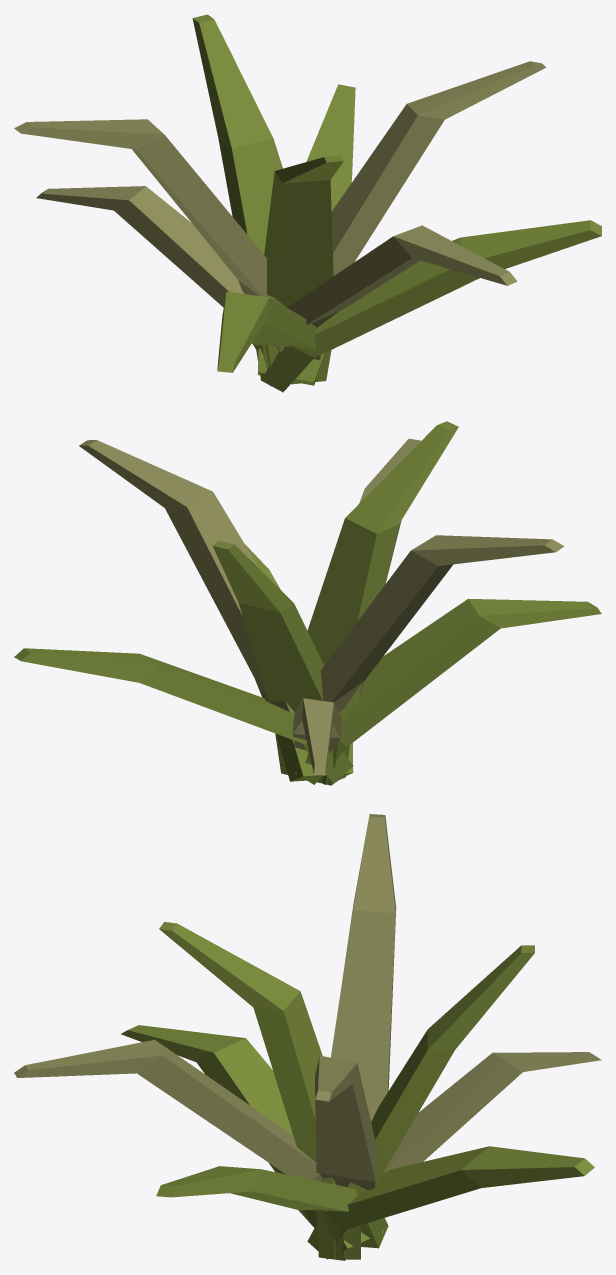
The model's file is herbe_haute.fbx.
3 views of the same model, one above another, from view 1: azimuth 30°, elevation 25°; view 2: azimuth 150°, elevation 25°; view 3: azimuth 270°, elevation 25° (orthographic). The views are drawn at different scales.
Parts seen in each view (by area): view 1: Cube.044; view 2: Cube.044; view 3: Cube.044.
Boxes of the visible parts, bbox=[...] form: Cube.044: bbox=[14, 14, 601, 392]; Cube.044: bbox=[14, 421, 601, 785]; Cube.044: bbox=[14, 814, 601, 1260].
Bounding box in the file's own units: 83.99 × 49.21 × 83.64.
